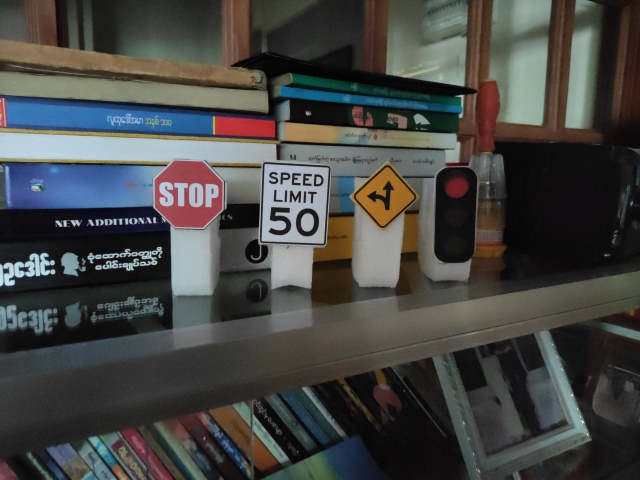Red Traffic Light: (433, 166, 480, 263)
Speed Limit 50: (257, 160, 332, 247)
Stop Sign: (152, 159, 227, 230)
Straight Or Left Sign: (353, 161, 418, 230)
